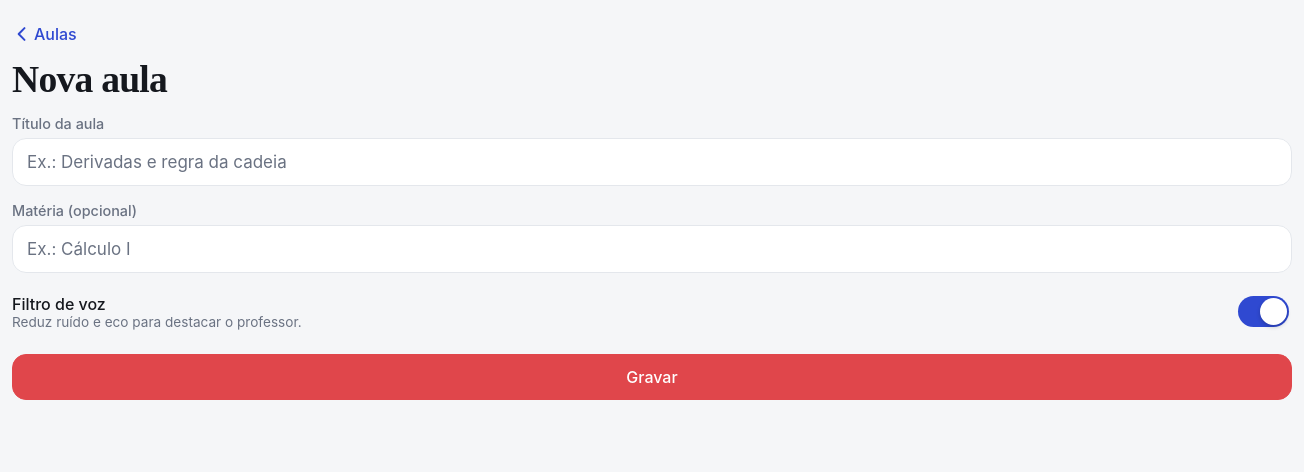
Test case: RecordScreen › mostra o erro real quando o gravador não inicia
Step 1. Type "Cálculo" into the field labelled "Título da aula" → (652, 162), box [12,138,1292,186]
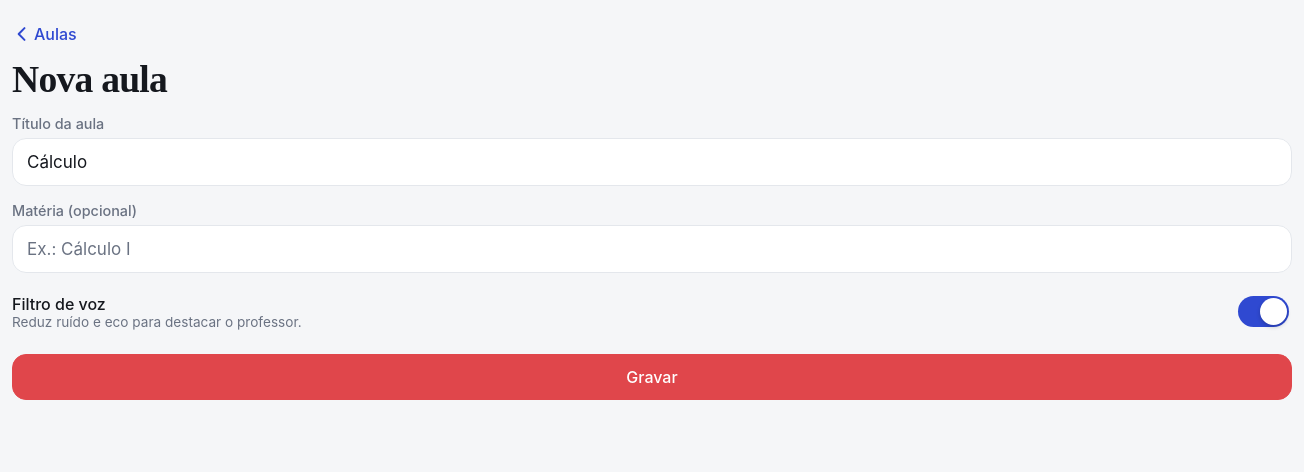
Step 2. Click the button "Gravar" → (652, 378), box [12,354,1292,400]
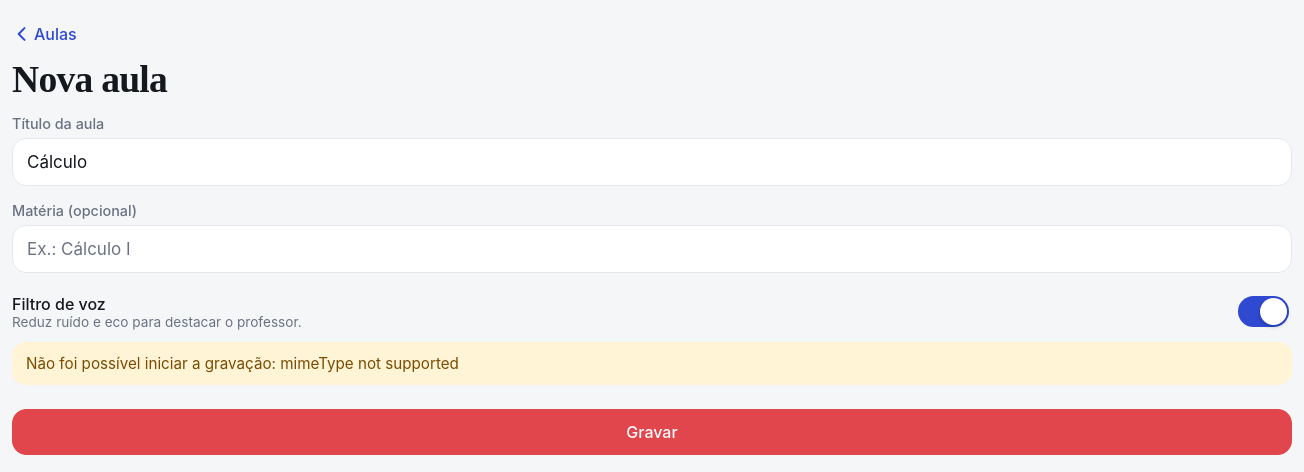
Result: the text "Não foi possível iniciar a gravação: mimeType not supported" is shown at [12,342,1292,386]
